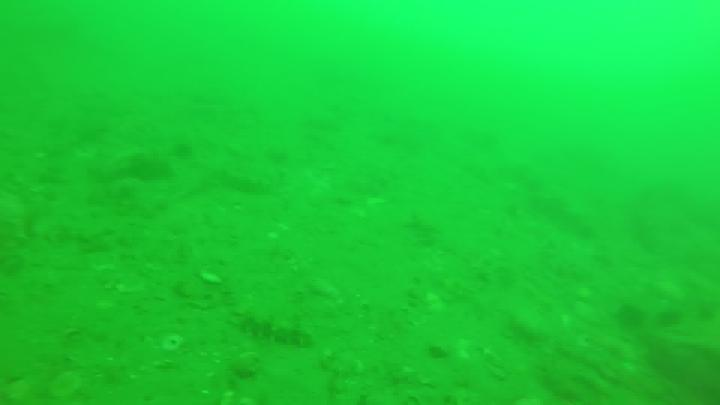holothurian: (243, 313, 314, 350)
scallop: (166, 331, 184, 352), (202, 271, 223, 284)
